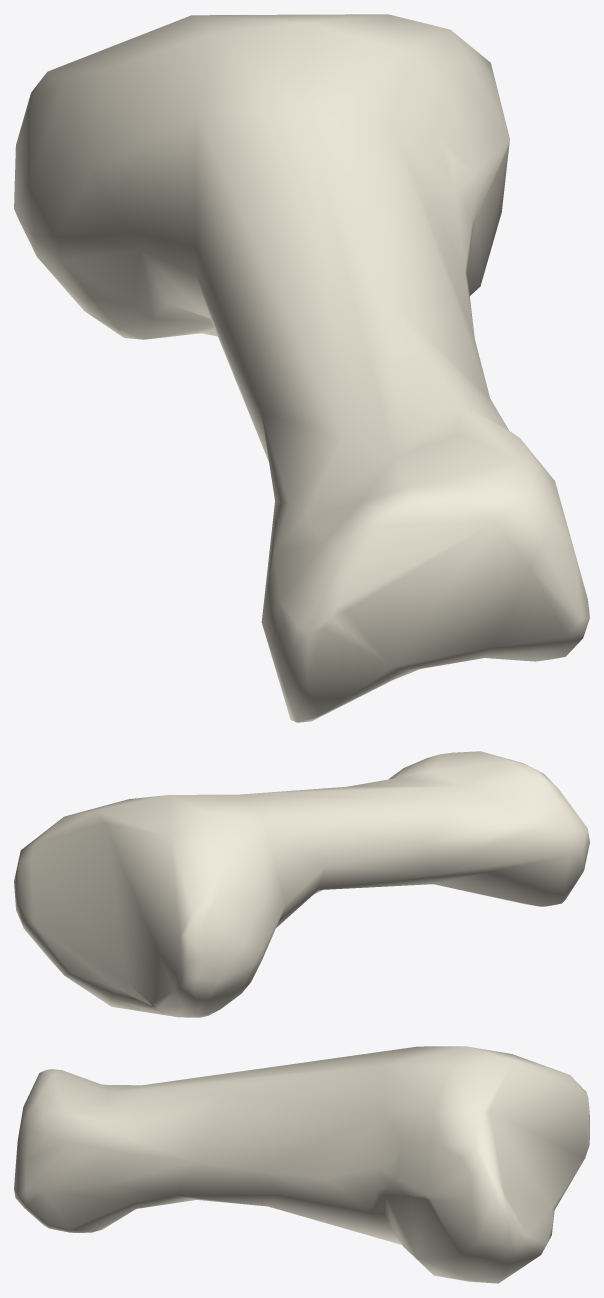
3 views of the same model, one above another, from view 1: azimuth 30°, elevation 25°; view 2: azimuth 150°, elevation 25°; view 3: azimuth 270°, elevation 25° (orthographic). The views are drawn at different scales.
Parts seen in each view (by area): view 1: ZA_4ad33d8271cde1a4; view 2: ZA_4ad33d8271cde1a4; view 3: ZA_4ad33d8271cde1a4.
Part boxes in pixels (x1,y1,x2,y2): ZA_4ad33d8271cde1a4: (14, 14, 589, 722); ZA_4ad33d8271cde1a4: (14, 751, 589, 1017); ZA_4ad33d8271cde1a4: (14, 1046, 589, 1283).
Size of the model in its own units: 0.0183 by 0.0104 by 0.0268.
